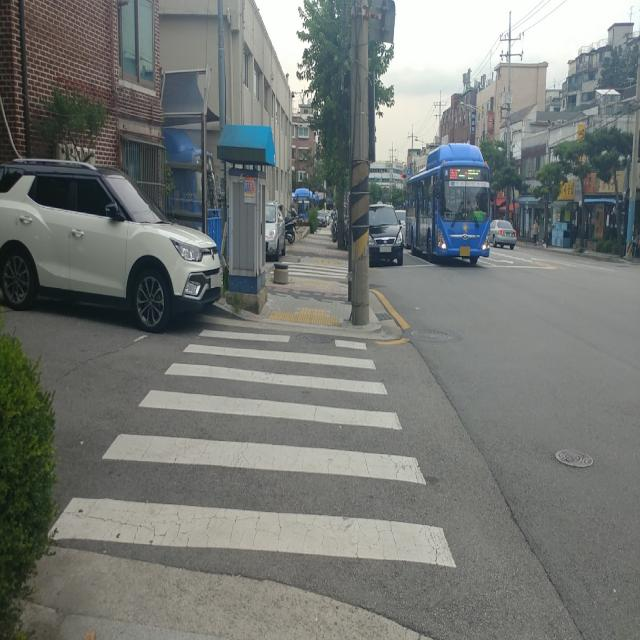횡단보도: (46, 327, 459, 571)
